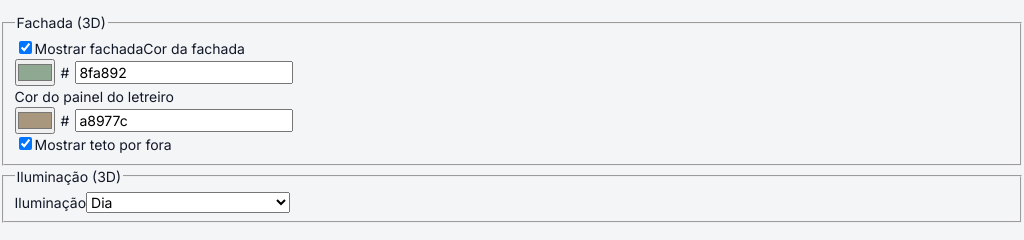
Test: FacadeControls › HEX incompleto não muda a cor e volta ao sair do campo
Replace the text in the field named "cor do painel do letreiro (HEX)" with "12" at (184, 120), box left=75, top=109, right=293, bottom=132
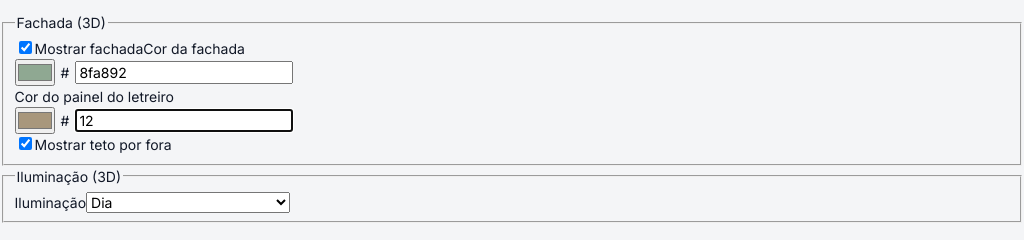
Expected: the field named "cor do painel do letreiro (HEX)" is marked as invalid
Leave the field named "cor do painel do letreiro (HEX)", box left=75, top=109, right=293, bottom=132
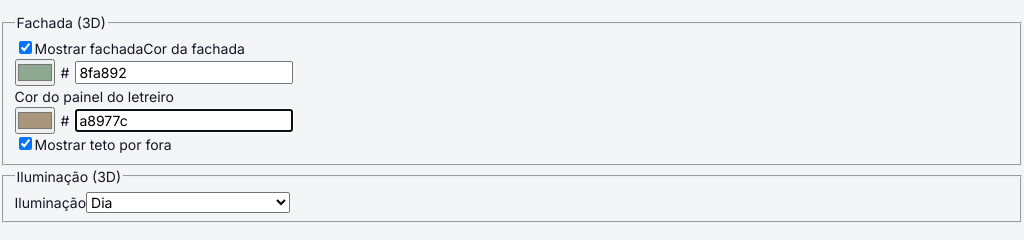
Expected: the field named "cor do painel do letreiro (HEX)" holds "a8977c", left=75, top=109, right=293, bottom=132
